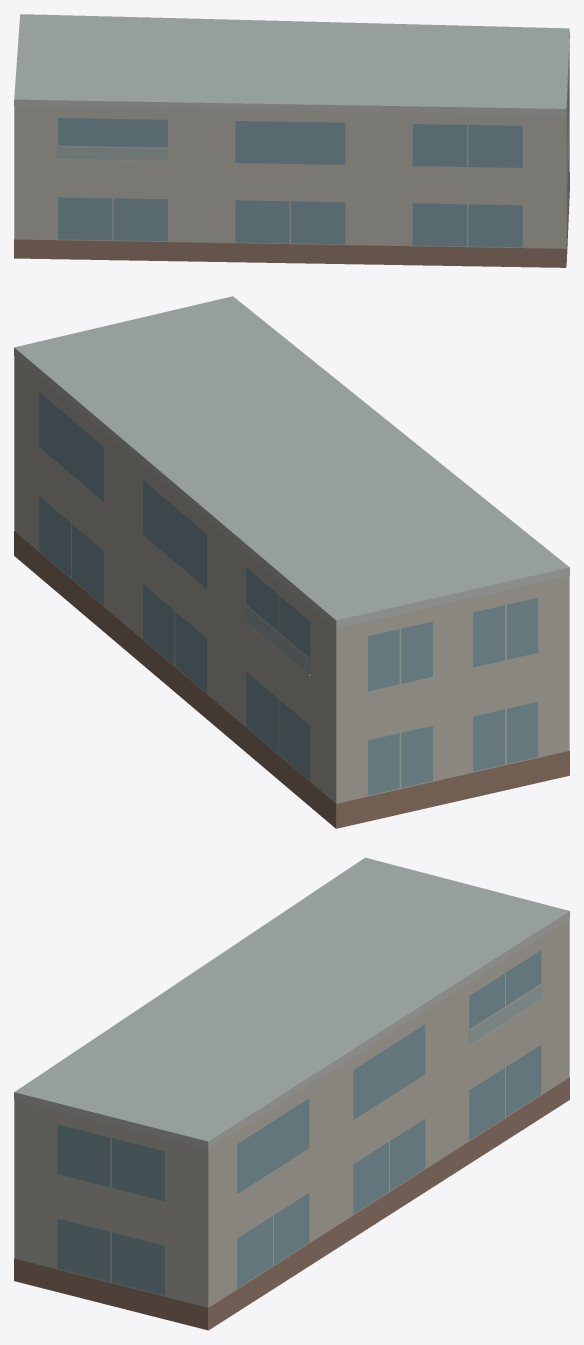
Rendered from survey-upis-33012142.glb.
3 renders of one model, top to bottom at view 1: azimuth 30°, elevation 25°; view 2: azimuth 150°, elevation 25°; view 3: azimuth 270°, elevation 25°, orthographic. The views are drawn at different scales.
Parts seen in each view (by area): view 1: survey-upis-33012142.tmp; view 2: survey-upis-33012142.tmp; view 3: survey-upis-33012142.tmp.
Boxes of the visible parts, x1,y1,x2,y2 form: survey-upis-33012142.tmp: [14, 14, 569, 267]; survey-upis-33012142.tmp: [14, 296, 569, 828]; survey-upis-33012142.tmp: [14, 857, 569, 1330].
Bounding box in the file's own units: 19.69 × 6.1 × 16.28.
